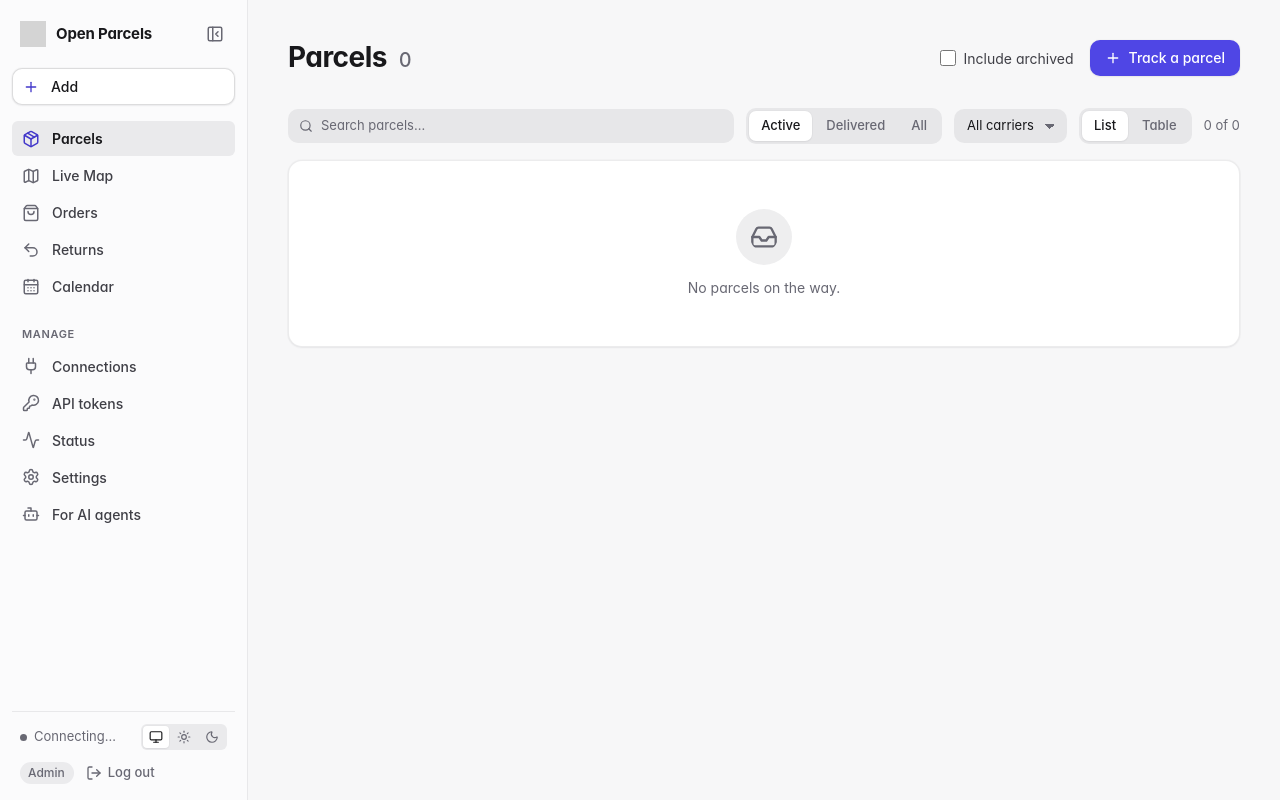
Test: first start and login › shows the login page and none of the data after logging out (OP-144)
Expected: the heading "Parcels" is shown, [288,41,387,73]
Click the button "Log out" at (120, 773), box [80,759,160,787]
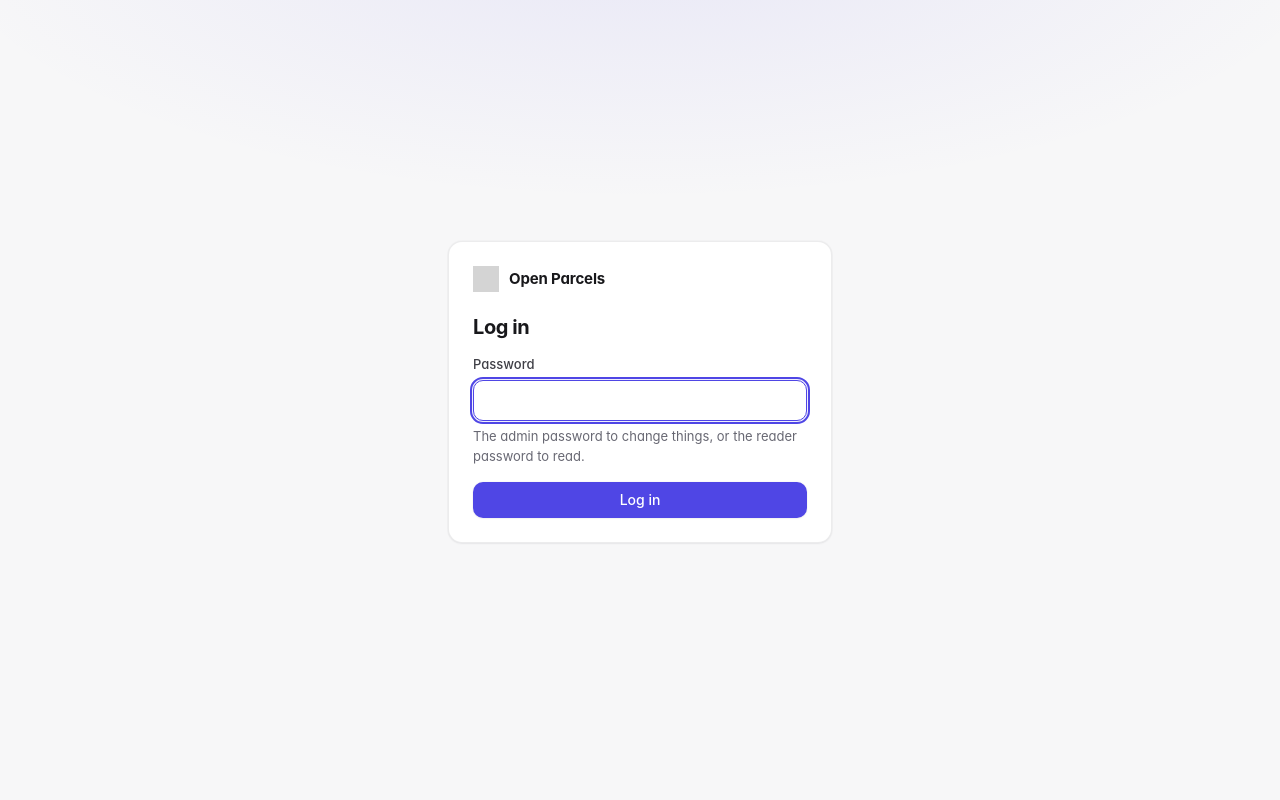
Result: the password field labelled "Password" is shown at [473,380,807,421]
